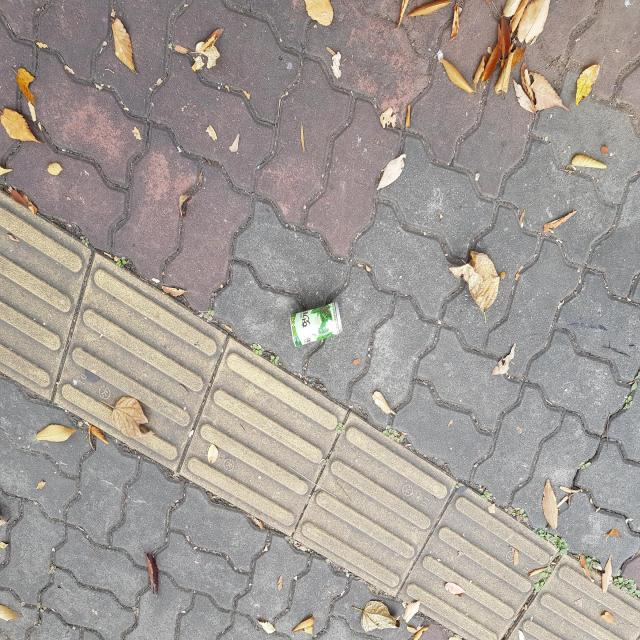can: (290, 302, 342, 346)
